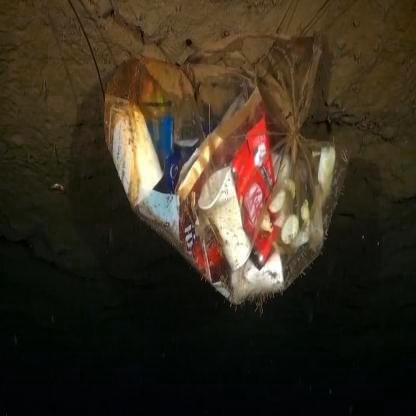plastic: (109, 88, 345, 294)
